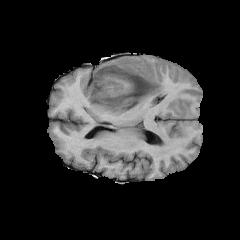glioma: (85, 61, 165, 113)
